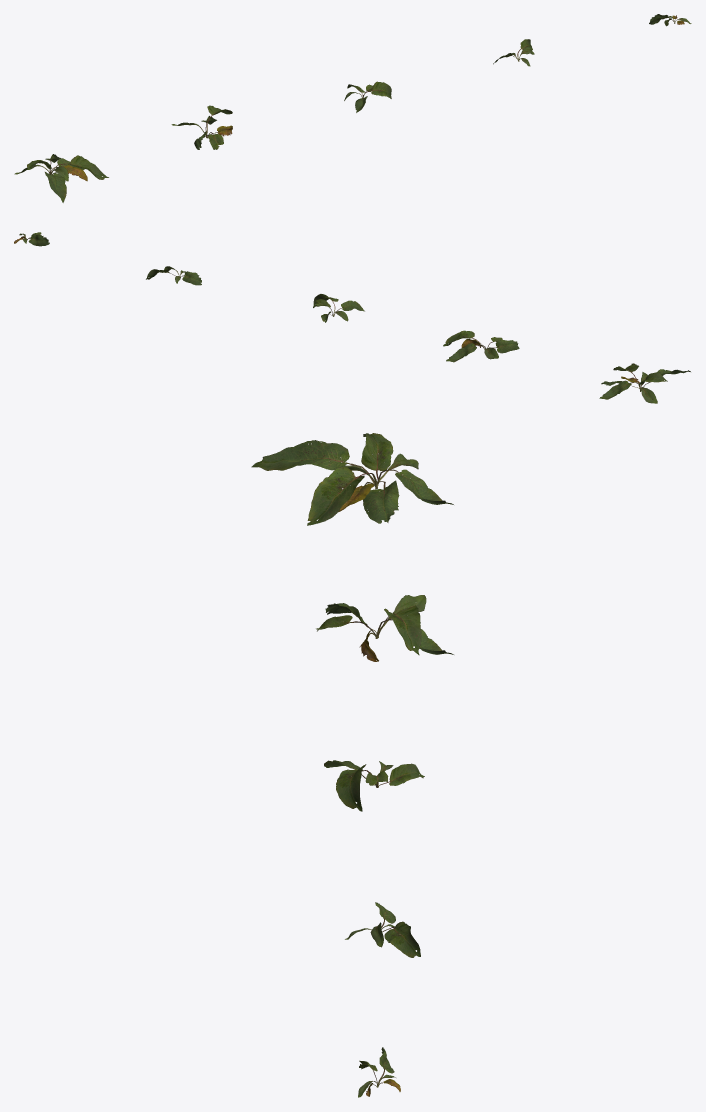
Rendered from weed_plant_02_1k.gltf.
3 views of the same model, one above another, from view 1: azimuth 30°, elevation 25°; view 2: azimuth 150°, elevation 25°; view 3: azimuth 270°, elevation 25° (orthographic). The views are drawn at different scales.
Parts seen in each view (by area): view 1: weed_plant_02_a_LOD0, weed_plant_02_b_LOD0, weed_plant_02_c_LOD0, weed_plant_02_d_LOD0; view 2: weed_plant_02_a_LOD0, weed_plant_02_b_LOD0, weed_plant_02_c_LOD0, weed_plant_02_d_LOD0, weed_plant_02_e_LOD0; view 3: weed_plant_02_a_LOD0, weed_plant_02_b_LOD0, weed_plant_02_c_LOD0, weed_plant_02_d_LOD0.
Part boxes in pixels (bbox=[...]): weed_plant_02_a_LOD0: bbox=[14, 154, 108, 202]; weed_plant_02_b_LOD0: bbox=[171, 105, 232, 149]; weed_plant_02_c_LOD0: bbox=[344, 81, 391, 112]; weed_plant_02_d_LOD0: bbox=[493, 39, 534, 66]; weed_plant_02_a_LOD0: bbox=[599, 363, 690, 403]; weed_plant_02_b_LOD0: bbox=[443, 330, 519, 362]; weed_plant_02_c_LOD0: bbox=[313, 294, 364, 322]; weed_plant_02_d_LOD0: bbox=[146, 266, 201, 285]; weed_plant_02_e_LOD0: bbox=[14, 232, 49, 246]; weed_plant_02_a_LOD0: bbox=[251, 433, 453, 525]; weed_plant_02_b_LOD0: bbox=[316, 595, 453, 661]; weed_plant_02_c_LOD0: bbox=[324, 760, 424, 811]; weed_plant_02_d_LOD0: bbox=[345, 902, 420, 957].
Size of the model in its own units: 2.13 by 0.0751 by 0.2909.
Materials: 1 (1 with a texture image).
